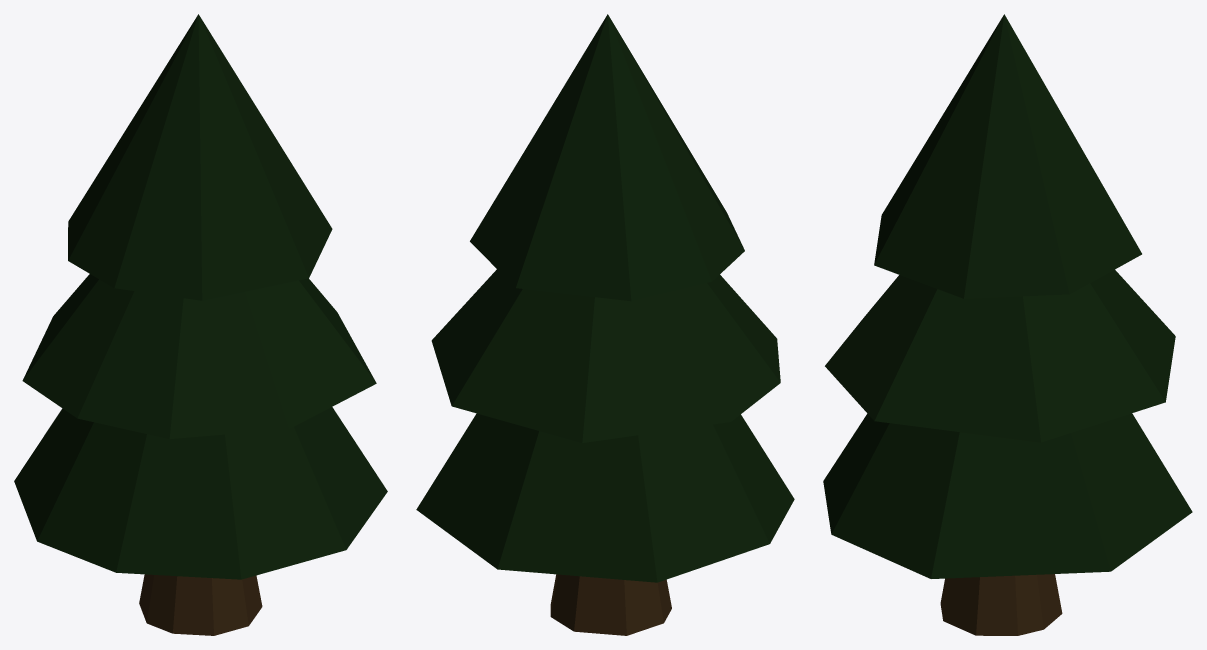
The model's file is tree.obj.
3 views of the same model, side by side, from view 1: azimuth 30°, elevation 25°; view 2: azimuth 150°, elevation 25°; view 3: azimuth 270°, elevation 25° (orthographic).
Parts seen in each view (by area): view 1: object 2, body_Cone; view 2: object 2, body_Cone; view 3: object 2, body_Cone.
Boxes of the visible parts, x1,y1,x2,y2 form: object 2: (14, 14, 387, 579); body_Cone: (139, 574, 262, 635); object 2: (416, 14, 794, 582); body_Cone: (550, 574, 671, 635); object 2: (823, 14, 1192, 578); body_Cone: (940, 574, 1062, 635).
Bounding box in the file's own units: 2 × 3.56 × 2.
